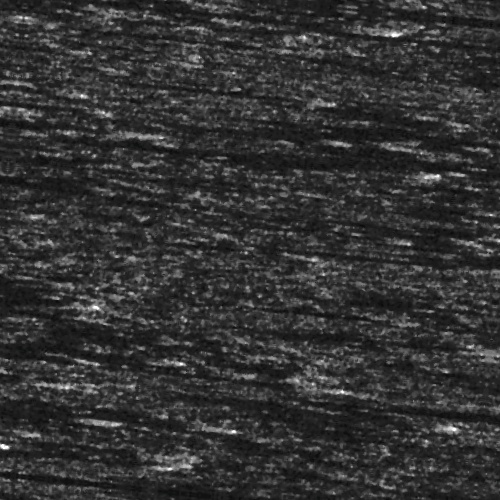object: (223, 6, 472, 25), (366, 146, 471, 161), (149, 464, 222, 481), (220, 40, 303, 51), (404, 396, 487, 407), (446, 318, 500, 329), (258, 89, 341, 96), (219, 424, 282, 433), (343, 298, 406, 307), (321, 489, 374, 498), (453, 238, 500, 247), (469, 282, 500, 289), (322, 128, 363, 133)
shadow: (0, 6, 347, 25), (26, 113, 500, 122), (156, 146, 419, 161), (3, 464, 185, 481), (187, 396, 445, 407), (82, 489, 347, 498), (39, 18, 500, 23), (245, 238, 499, 247), (78, 40, 261, 51), (308, 388, 500, 397), (71, 424, 250, 433), (200, 298, 374, 307), (76, 128, 342, 133), (119, 89, 299, 96), (397, 229, 500, 240), (341, 282, 500, 289), (391, 318, 477, 329), (412, 466, 500, 475), (284, 0, 500, 2), (447, 302, 500, 309), (468, 52, 500, 59)
